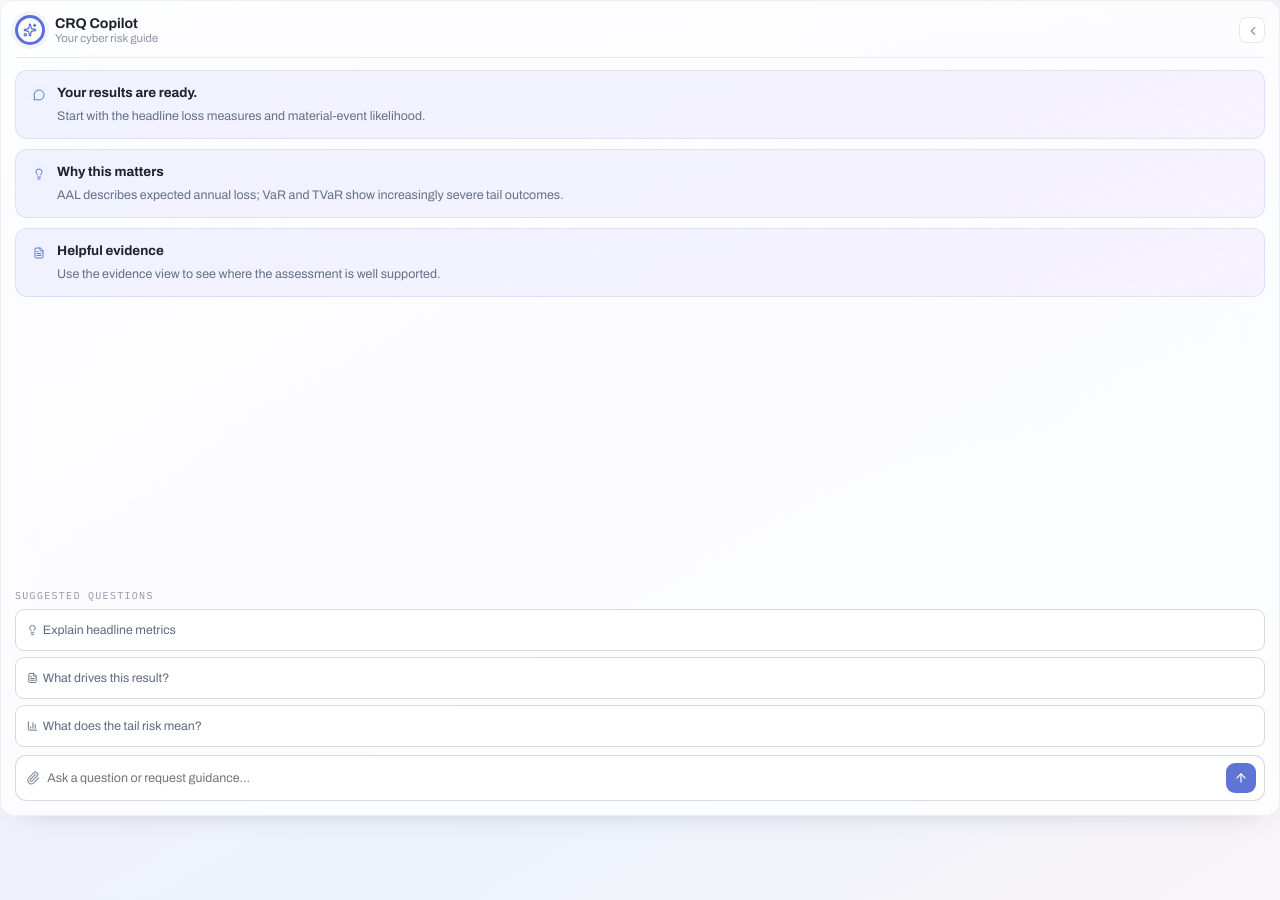
Test case: view-specific CRQ Copilot › never displays a rejected generated answer
Click the button "Explain headline metrics": x=109, y=630 x1=15 y1=609 x2=1265 y2=651
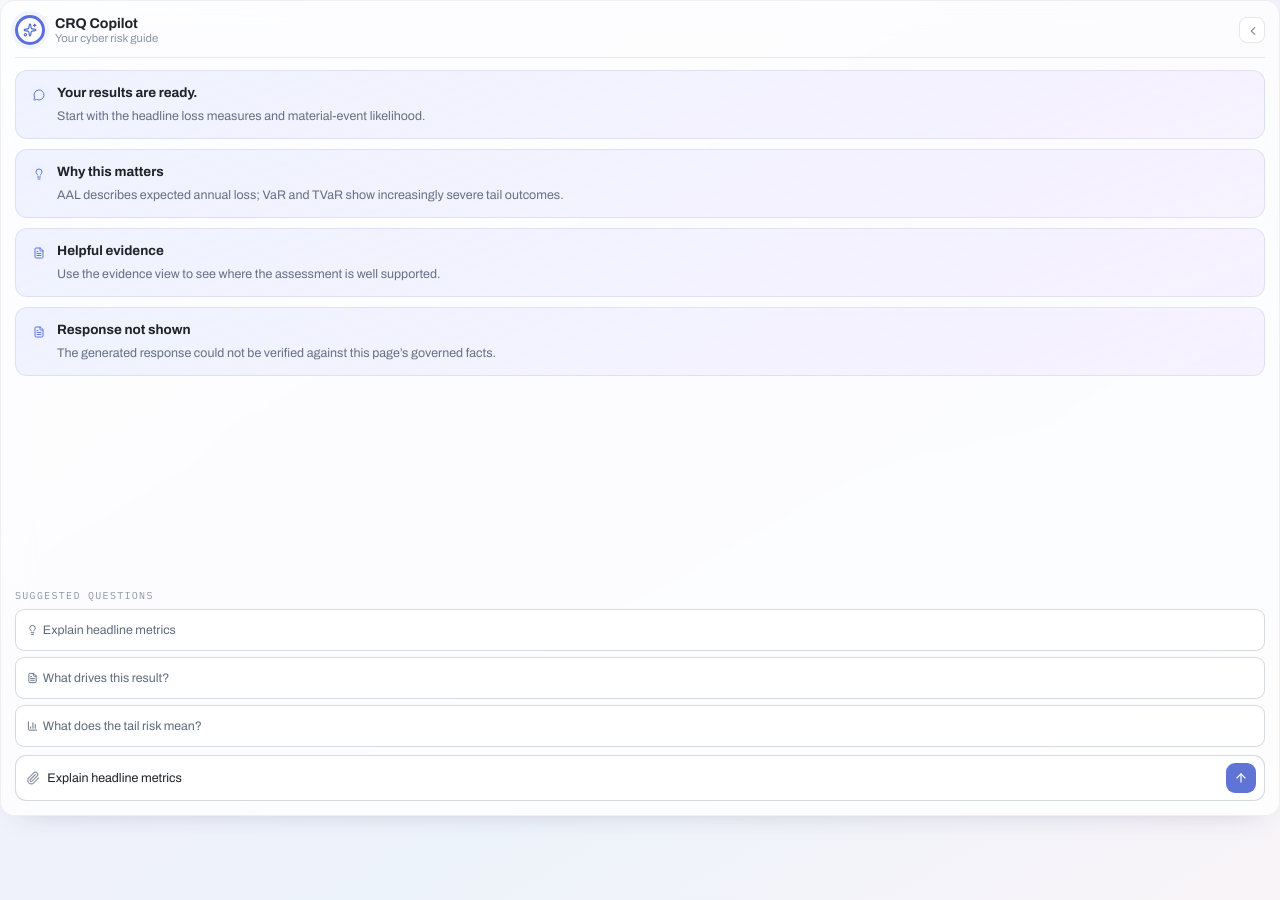
Check: the text "Response not shown" is shown, box x1=57 y1=322 x2=191 y2=337
